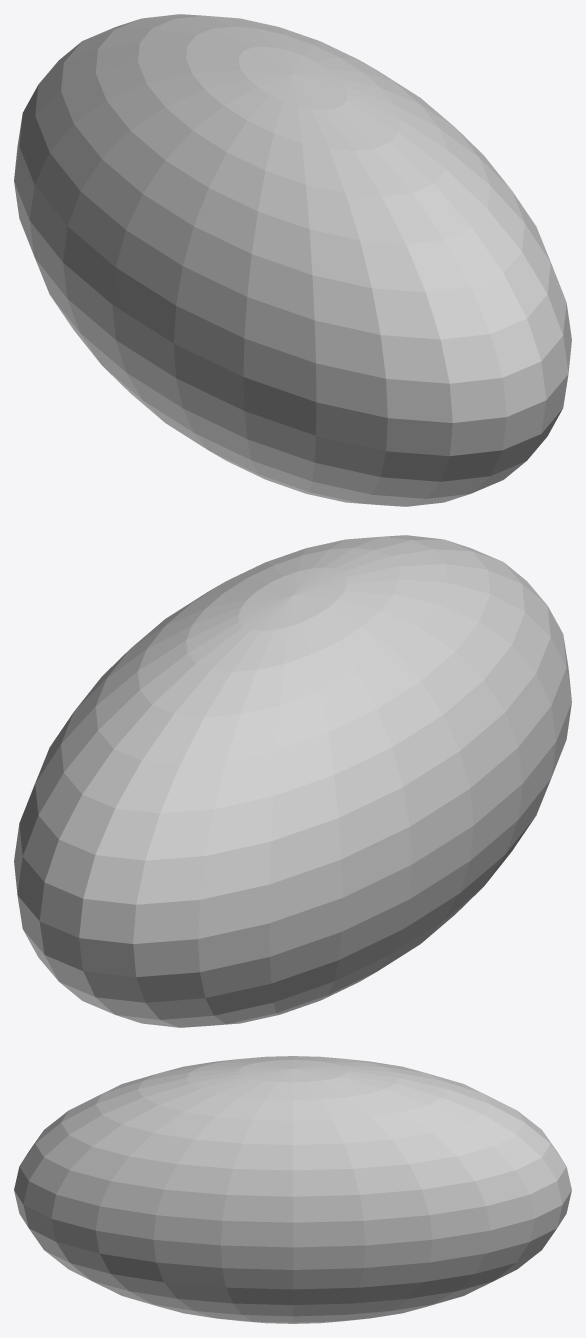
The model's file is cockpit.obj.
The picture shows the model from 3 angles, top to bottom: view 1: azimuth 30°, elevation 25°; view 2: azimuth 150°, elevation 25°; view 3: azimuth 270°, elevation 25°; orthographic projection. The views are drawn at different scales.
Visible parts, largest first — view 1: Cockpit; view 2: Cockpit; view 3: Cockpit.
Boxes of the visible parts, left/top/right/bottom form: Cockpit: left=14, top=14, right=571, bottom=506; Cockpit: left=14, top=535, right=571, bottom=1027; Cockpit: left=14, top=1056, right=571, bottom=1323.
Size of the model in its own units: 1.52 by 1.49 by 3.11.
1 material, 1 textured.
